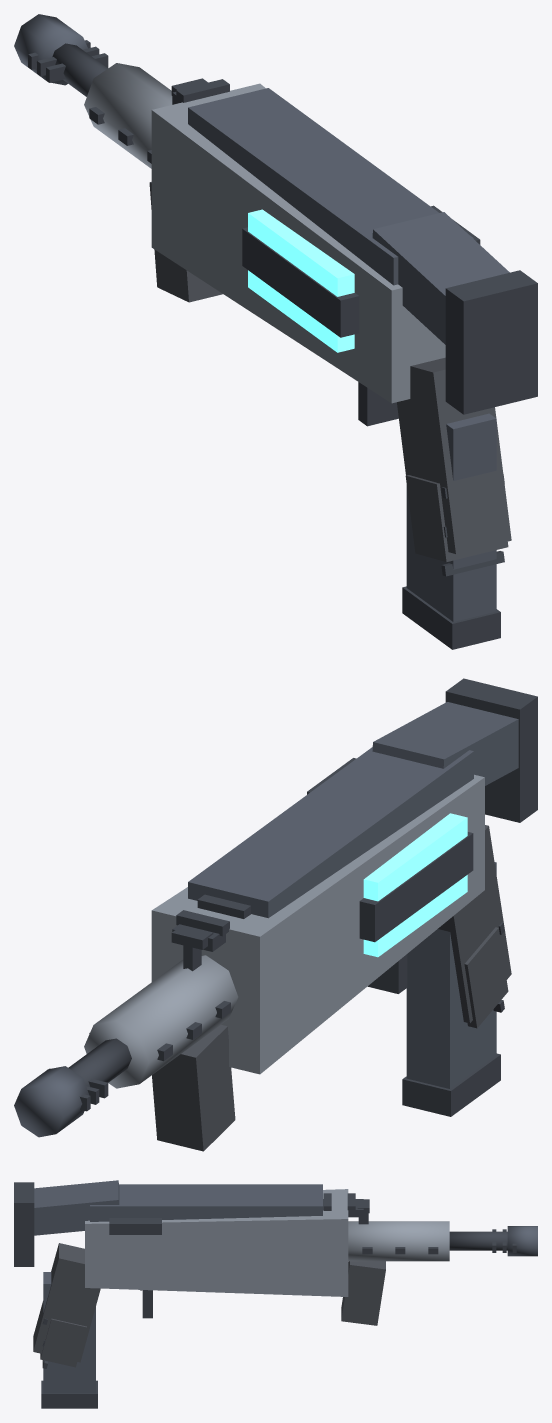
File: wpn_pulse_ar_world.glb
The picture shows the model from 3 angles, top to bottom: view 1: azimuth 30°, elevation 25°; view 2: azimuth 150°, elevation 25°; view 3: azimuth 270°, elevation 25°; orthographic projection. The views are drawn at different scales.
Visible parts, largest first — view 1: wpn_pulse_ar_world; view 2: wpn_pulse_ar_world; view 3: wpn_pulse_ar_world.
Boxes of the visible parts, box(x1,y1,x2,y2) form: wpn_pulse_ar_world: box(14, 14, 537, 649); wpn_pulse_ar_world: box(14, 678, 537, 1151); wpn_pulse_ar_world: box(14, 1180, 537, 1408).
Size of the model in its own units: 0.0839 by 0.2306 by 0.517.
